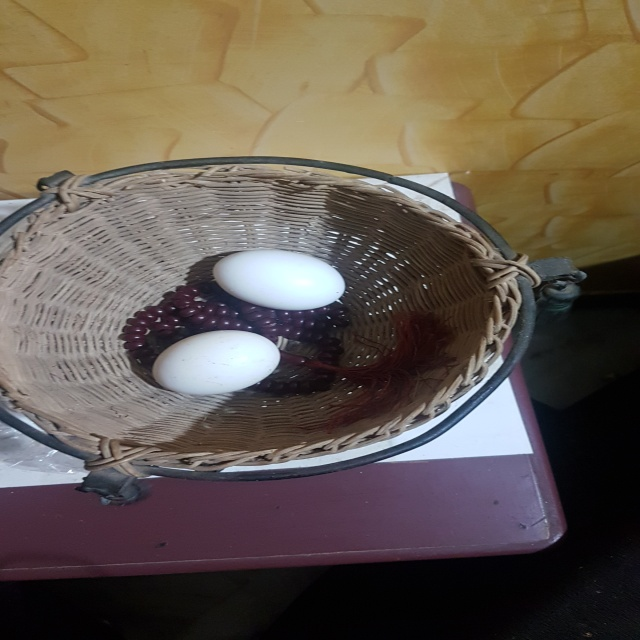eggs: (211, 244, 353, 310), (150, 331, 284, 398)
